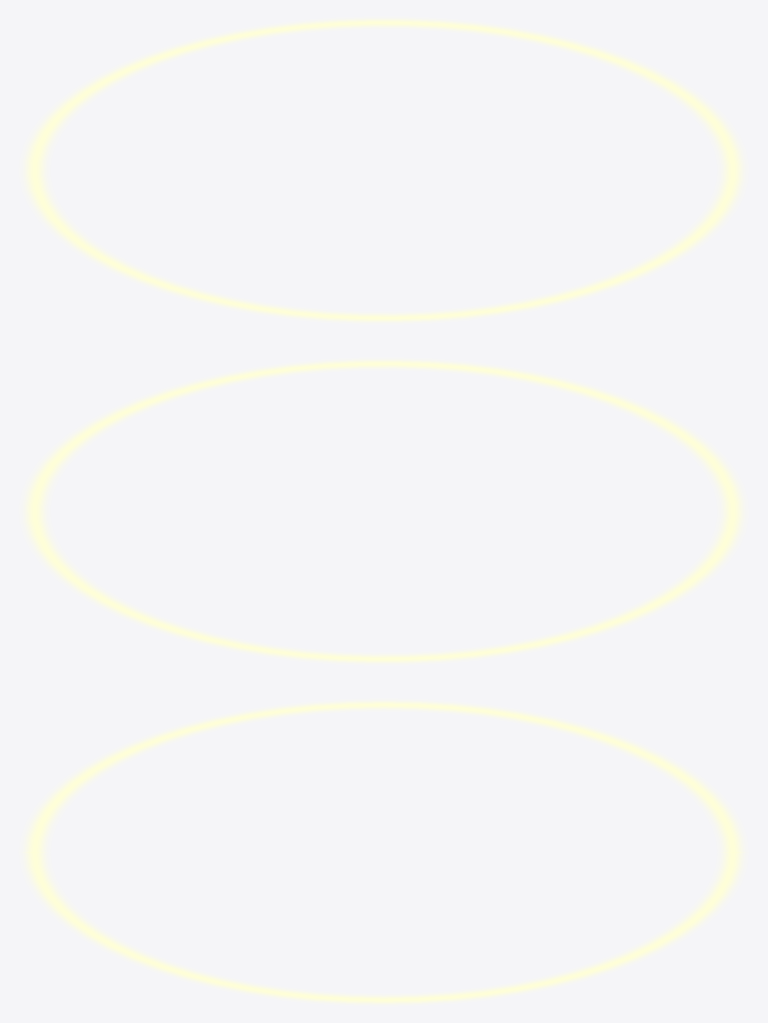
The model's file is mwm_fx_ripple.glb.
3 renders of one model, top to bottom at view 1: azimuth 30°, elevation 25°; view 2: azimuth 150°, elevation 25°; view 3: azimuth 270°, elevation 25°, orthographic.
Bounding box in the file's own units: 2 × 0 × 2.
1 material, 1 textured.
